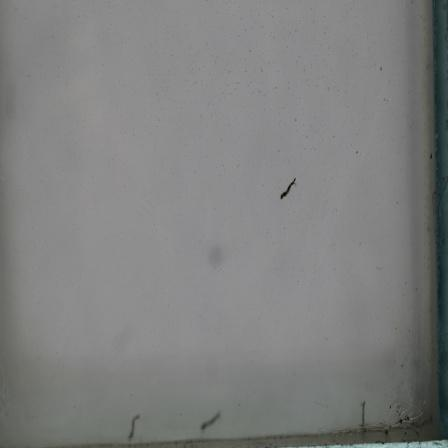Jentik-Nyamuk: (197, 407, 224, 432), (278, 173, 298, 203), (125, 412, 144, 440)
